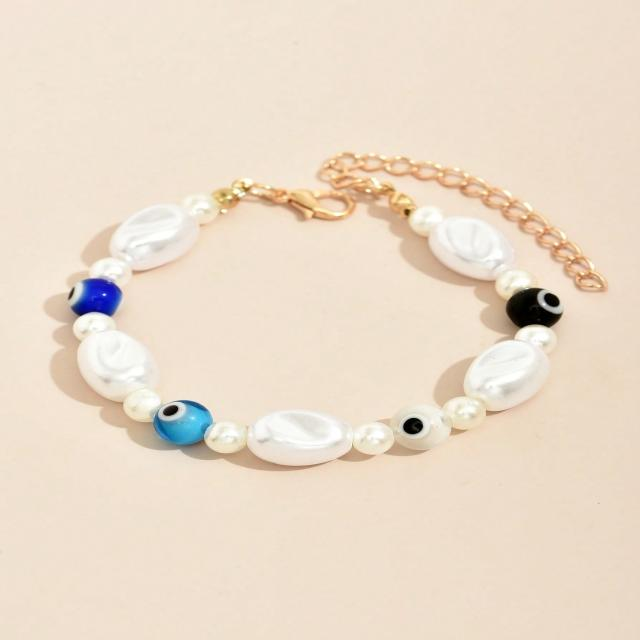bracelet: (27, 97, 640, 500)
